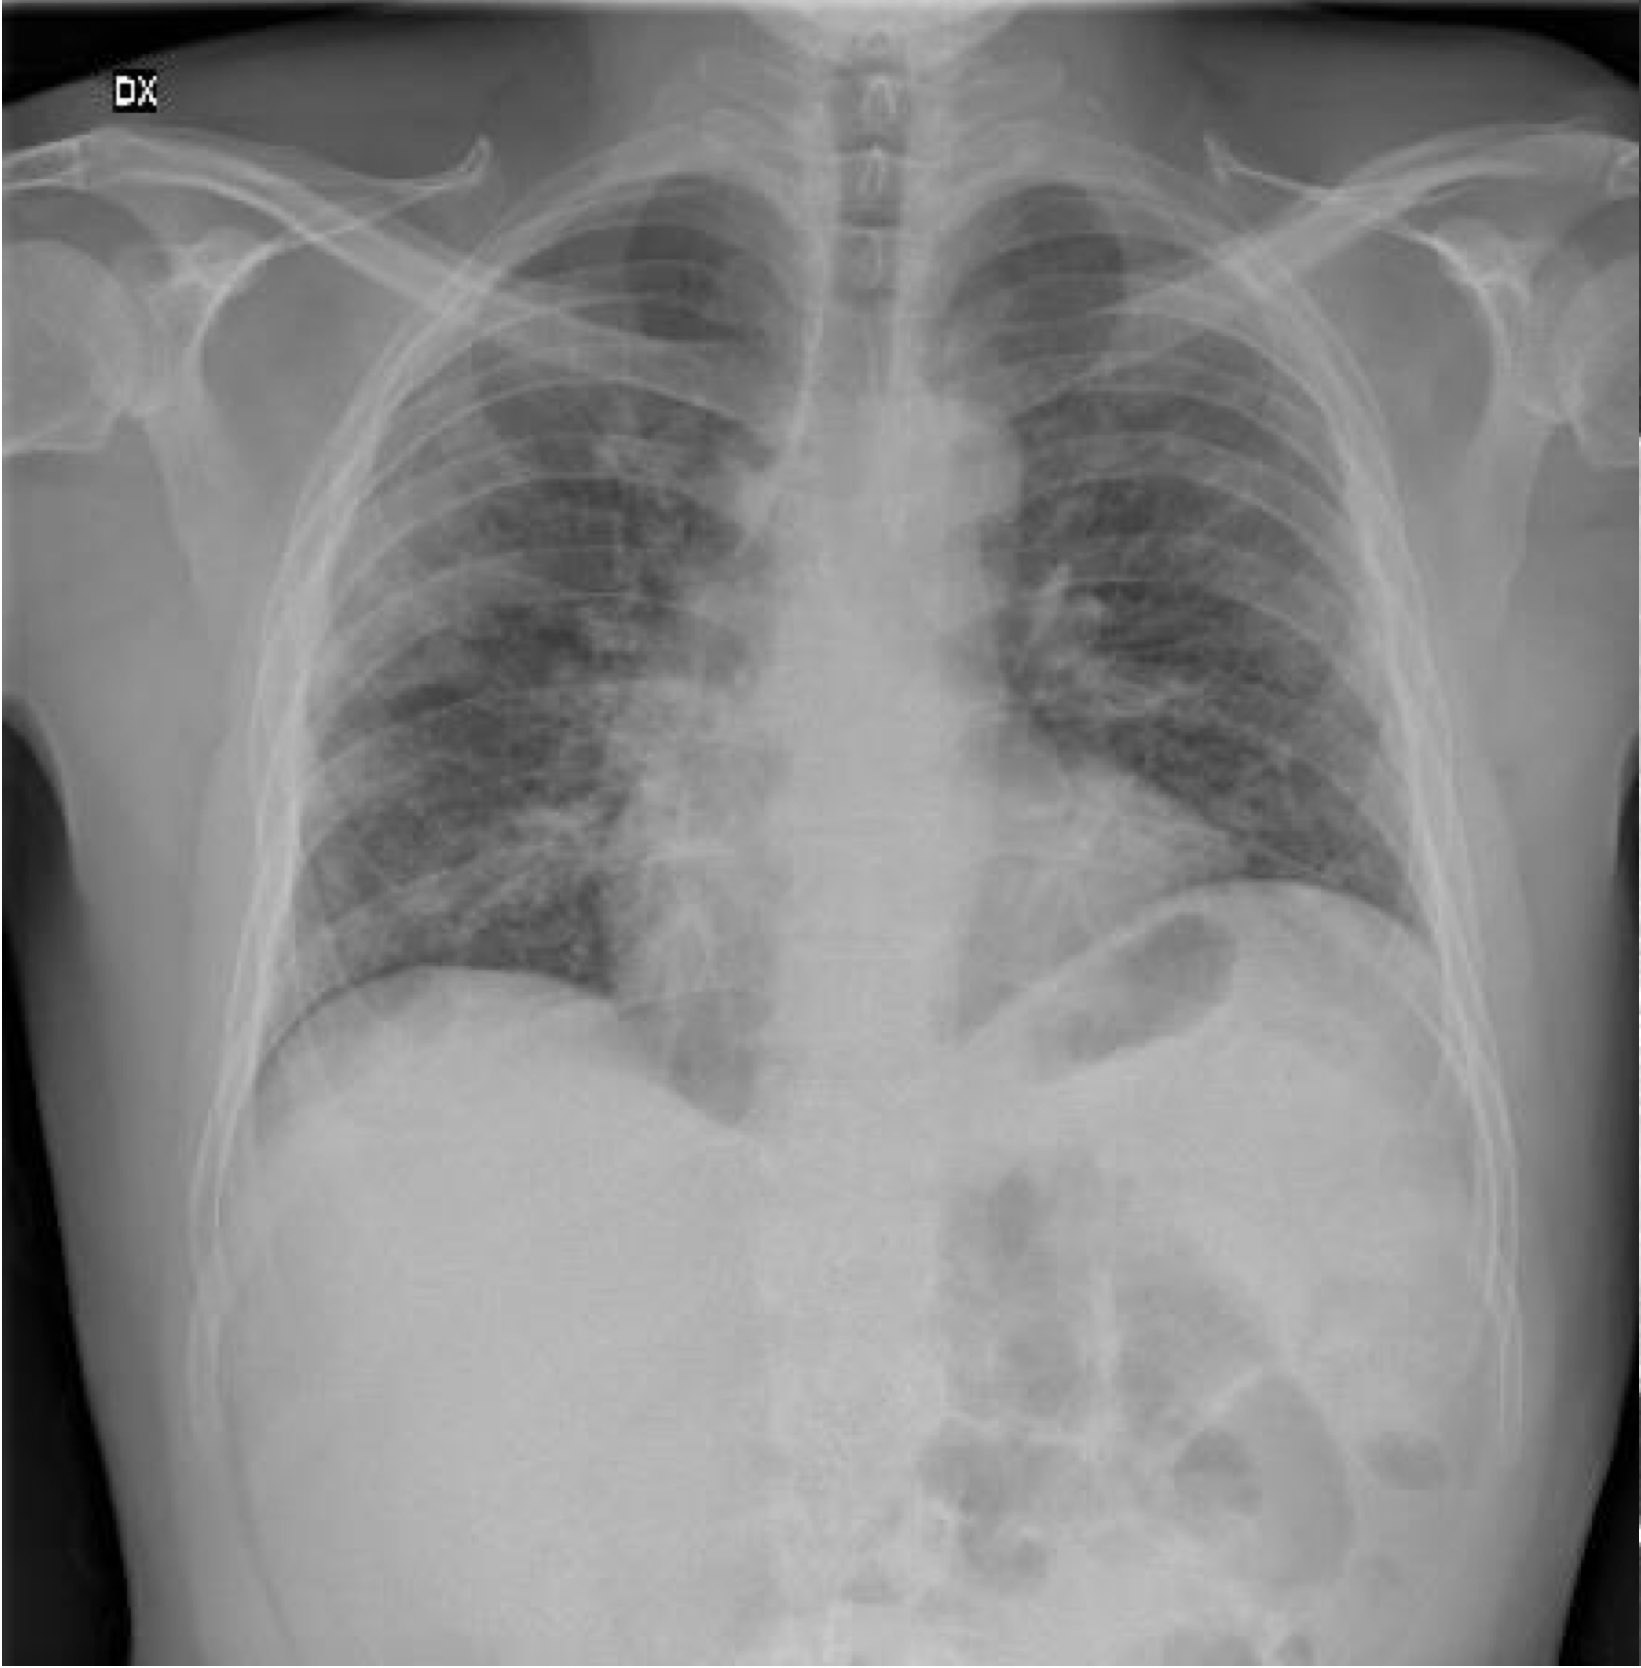Severe: (255, 159, 799, 1049), (944, 179, 1431, 921)
